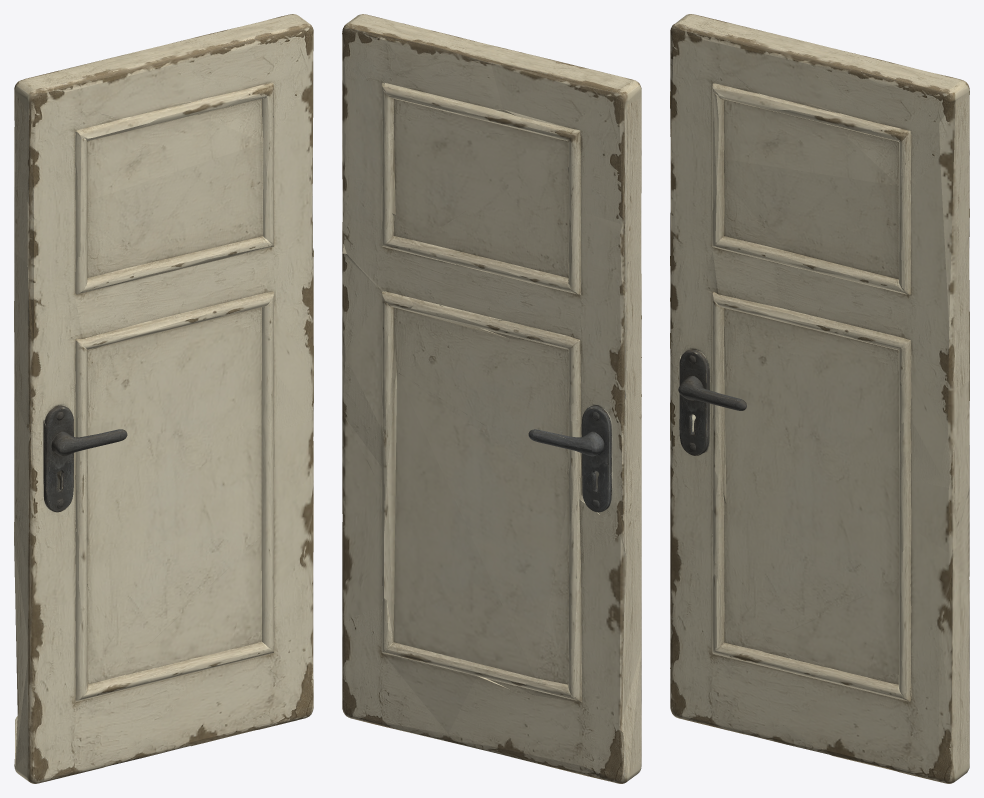
File: porta.glb
3 renders of one model, left to right at view 1: azimuth 30°, elevation 25°; view 2: azimuth 150°, elevation 25°; view 3: azimuth 330°, elevation 25°, orthographic.
Visible parts, largest first — view 1: Mesh_0; view 2: Mesh_0; view 3: Mesh_0.
Boxes of the visible parts, box(x1,y1,x2,y2) form: Mesh_0: box(14, 14, 313, 783); Mesh_0: box(342, 14, 641, 783); Mesh_0: box(670, 14, 969, 783).
Bounding box in the file's own units: 0.8191 × 1.9 × 0.2067.
1 material, 1 textured.
